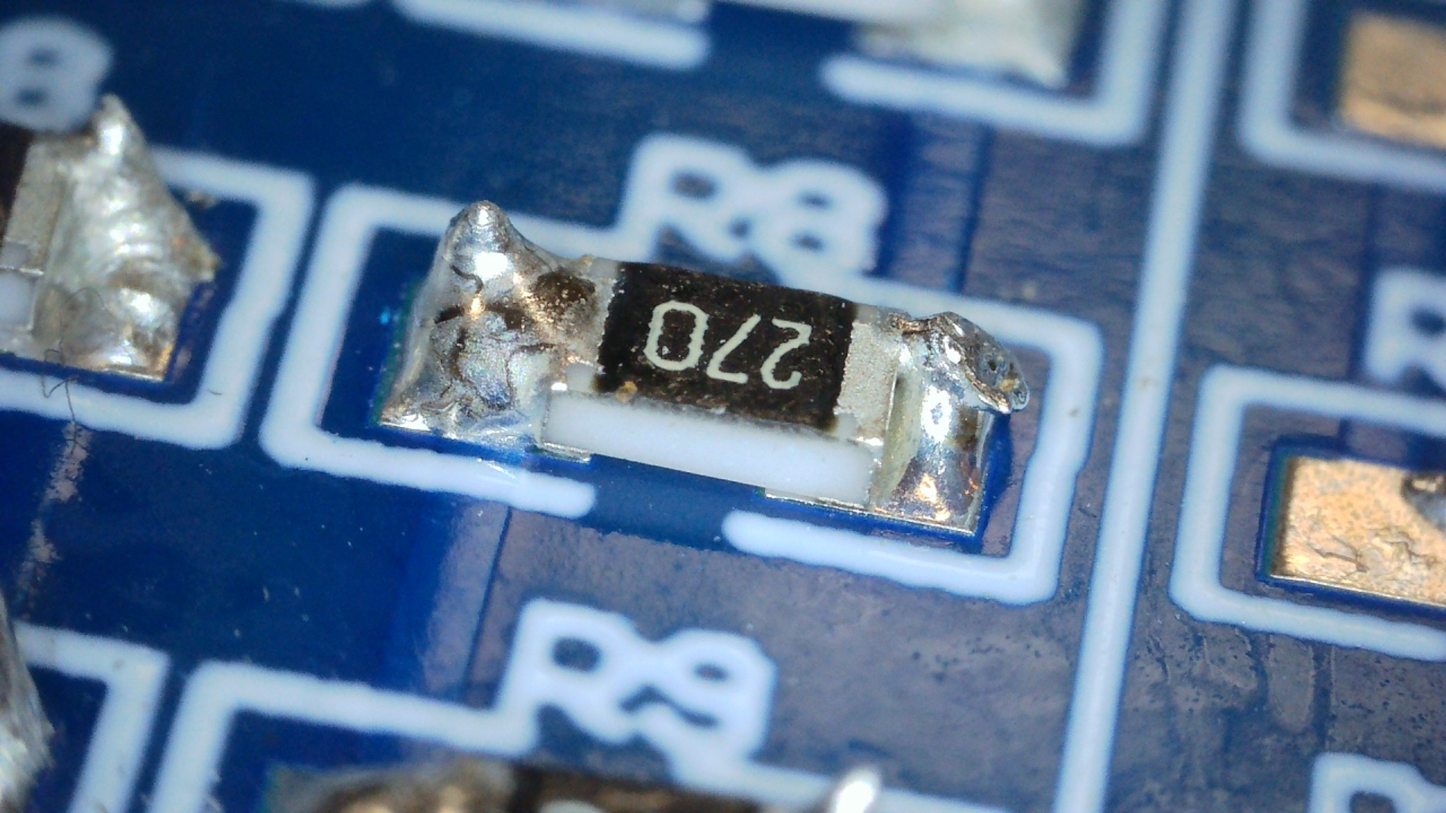NG: (401, 201, 583, 445), (871, 313, 1029, 522)
